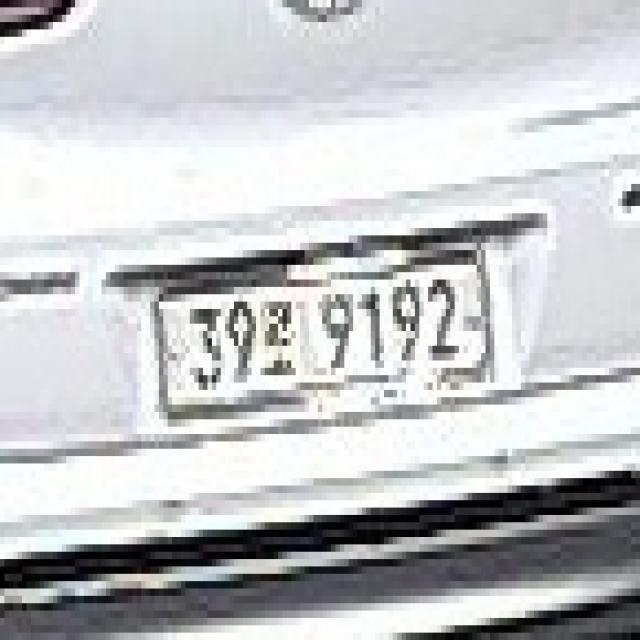1: (362, 287, 384, 368)
2: (428, 272, 459, 368)
3: (190, 302, 225, 397)
9: (393, 272, 424, 361), (322, 287, 353, 375), (230, 302, 260, 382)
license_plate: (154, 250, 499, 419)
lo: (256, 294, 300, 390)
